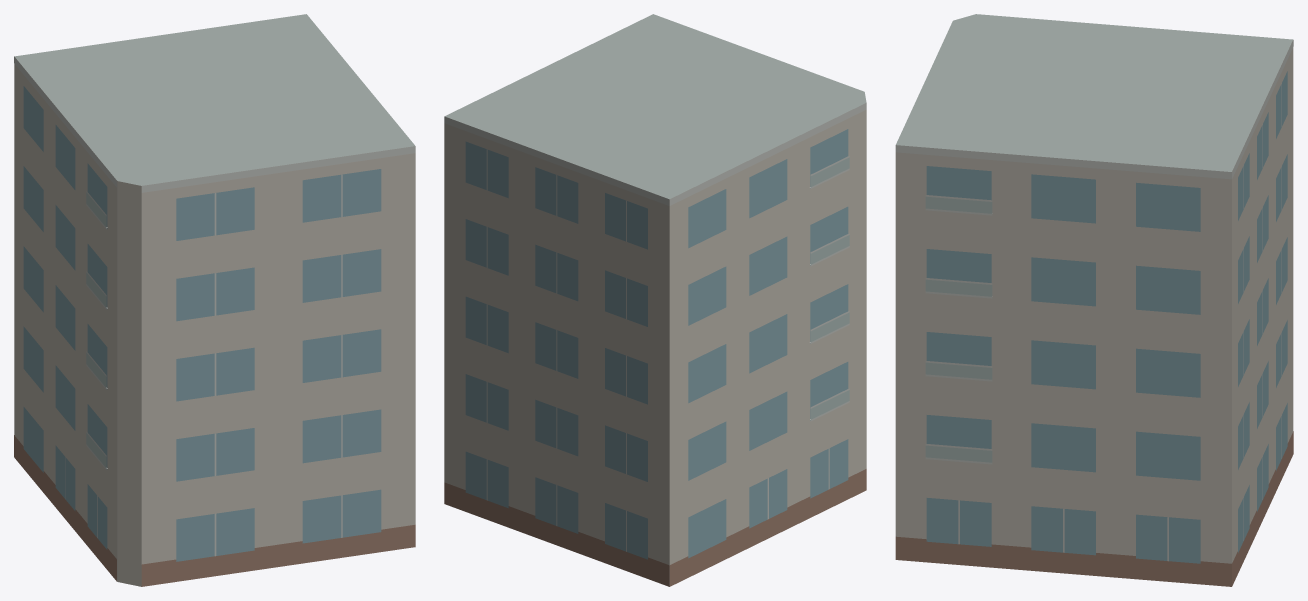
Rendered from survey-upis-32539419.glb.
The picture shows the model from 3 angles, left to right: view 1: azimuth 30°, elevation 25°; view 2: azimuth 150°, elevation 25°; view 3: azimuth 270°, elevation 25°; orthographic projection. The views are drawn at different scales.
Parts seen in each view (by area): view 1: survey-upis-32539419.tmp; view 2: survey-upis-32539419.tmp; view 3: survey-upis-32539419.tmp.
Part boxes in pixels (bbox=[...]): survey-upis-32539419.tmp: bbox=[14, 14, 415, 586]; survey-upis-32539419.tmp: bbox=[444, 14, 866, 586]; survey-upis-32539419.tmp: bbox=[895, 14, 1293, 586].
Size of the model in its own units: 11.37 by 13.9 by 12.09.
